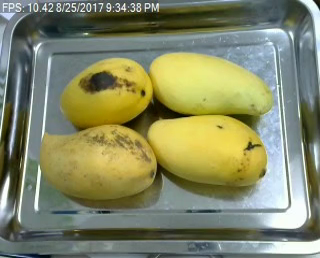Mango: (40, 124, 157, 201), (147, 116, 267, 186), (149, 53, 272, 116), (59, 57, 152, 128)
